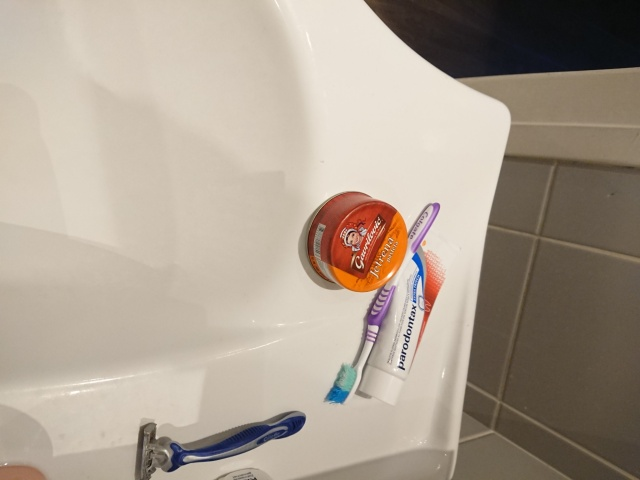Gavrilovic Pork Liver Pate 100g: (303, 188, 410, 294)
